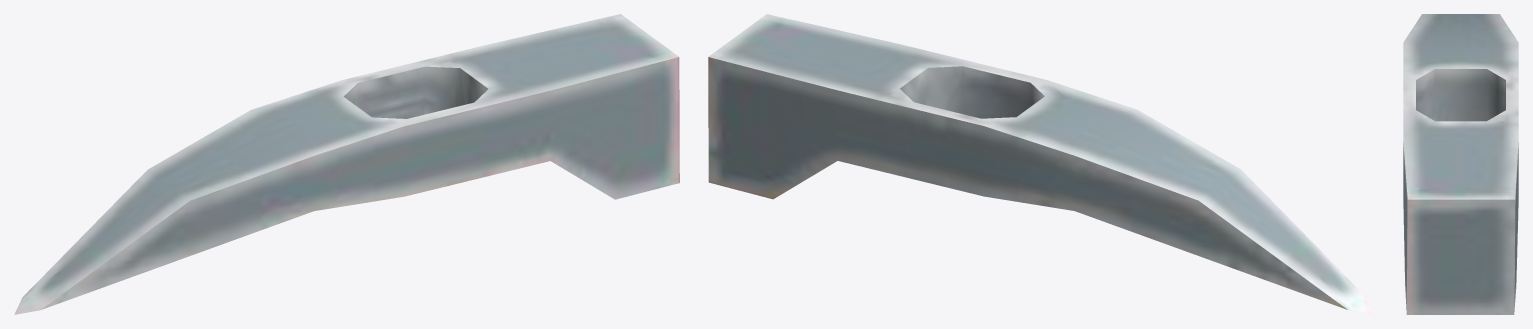
The model's file is hammer.glb.
3 views of the same model, side by side, from view 1: azimuth 30°, elevation 25°; view 2: azimuth 150°, elevation 25°; view 3: azimuth 270°, elevation 25° (orthographic). The views are drawn at different scales.
Visible parts, largest first — view 1: Hammer.001; view 2: Hammer.001; view 3: Hammer.001.
Part boxes in pixels (bbox=[...]): Hammer.001: bbox=[14, 14, 679, 314]; Hammer.001: bbox=[708, 14, 1374, 314]; Hammer.001: bbox=[1403, 14, 1518, 314].
Bounding box in the file's own units: 0.3681 × 0.0695 × 0.063.
1 material, 1 textured.
